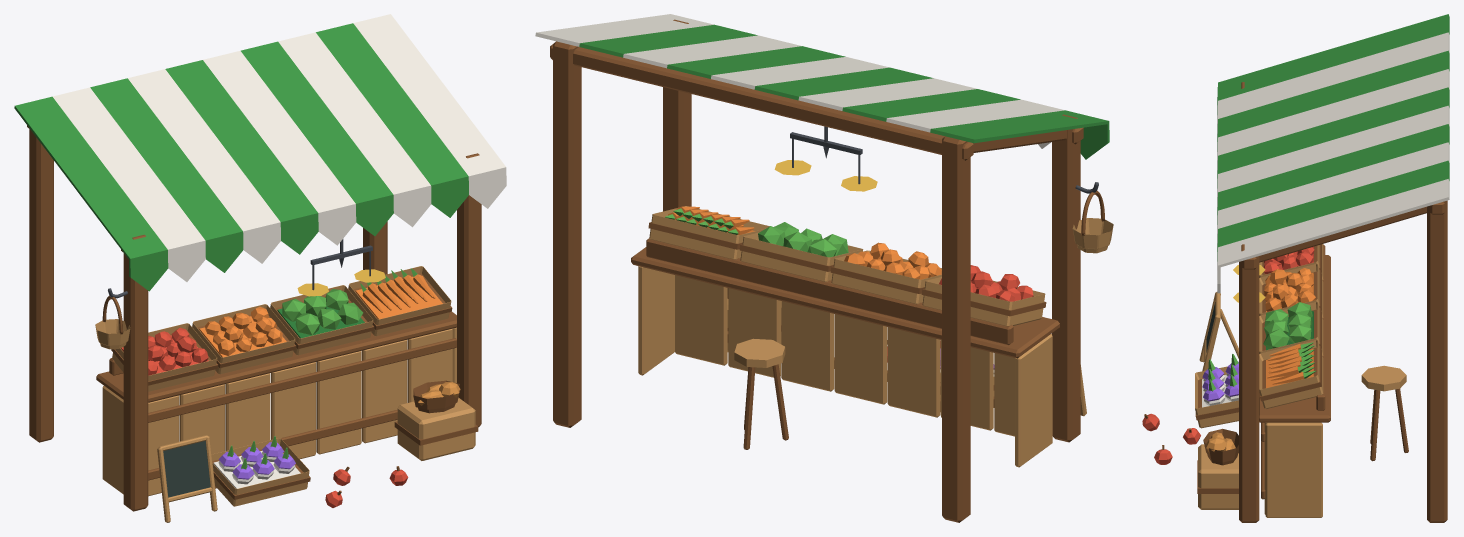
The model's file is medieval-produce-stall.glb.
3 renders of one model, left to right at view 1: azimuth 30°, elevation 25°; view 2: azimuth 150°, elevation 25°; view 3: azimuth 270°, elevation 25°, orthographic. The views are drawn at different scales.
Visible parts, largest first — view 1: Awning, Post_Back_L, Post_Front_L, Post_Front_R, Counter_Top, Counter_Board_4, Bread_Crate, Counter_Rail_2.15, Counter_Board_5, Counter_Board_3, Counter_Board_2, Crate_Cabbages_Cabbages (+25 smaller); view 2: Awning, Post_Back_L, Post_Back_R, Post_Front_L, Beam_Back, Crate_Riser, Counter_Top, Counter_Board_2, Counter_Board_3, Counter_Board_4, Counter_Side_-1, Counter_Board_6 (+18 smaller); view 3: Awning, Post_Back_R, Counter_Side_1, Post_Front_R, Counter_Top, Bread_Crate, Crate_Cabbages_Cabbages, Crate_Oranges_Oranges, Crate_Carrots, Beam_Side_R, Crate_Carrots_Carrots, Stool_Seat (+15 smaller).
Boxes of the visible parts, x1,y1,x2,y2 form: Awning: (14,14,506,291); Post_Back_L: (29,129,53,442); Post_Front_L: (123,234,148,511); Post_Front_R: (457,153,481,427); Counter_Top: (96,311,456,402); Counter_Board_4: (316,351,361,454); Bread_Crate: (397,397,475,460); Counter_Rail_2.15: (148,338,456,422); Counter_Board_5: (362,340,407,443); Counter_Board_3: (271,362,315,458); Counter_Board_2: (225,373,270,450); Crate_Cabbages_Cabbages: (282,289,363,335); Awning: (535,14,1109,159); Post_Back_L: (942,136,970,522); Post_Back_R: (553,41,581,427); Post_Front_L: (1052,114,1080,442); Beam_Back: (550,44,973,160); Crate_Riser: (646,238,1013,344); Counter_Top: (631,247,1059,358); Counter_Board_2: (887,327,940,417); Counter_Board_3: (834,314,887,404); Counter_Board_4: (781,301,834,391); Counter_Side_-1: (1015,334,1052,467); Counter_Board_6: (675,275,727,365); Awning: (1217,14,1449,293); Post_Back_R: (1427,200,1447,522); Counter_Side_1: (1265,422,1322,517); Post_Front_R: (1239,244,1259,522); Counter_Top: (1259,255,1330,422); Bread_Crate: (1198,444,1238,509); Crate_Cabbages_Cabbages: (1263,302,1312,349); Crate_Oranges_Oranges: (1264,268,1315,311); Crate_Carrots: (1259,340,1323,408); Beam_Side_R: (1259,206,1426,262); Crate_Carrots_Carrots: (1266,344,1304,384); Stool_Seat: (1361,365,1406,391).
Bounding box in the file's own units: 11.09 × 9 × 7.51.
